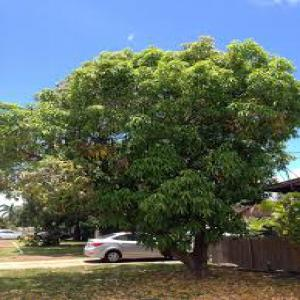Tree: (39, 36, 289, 266)
